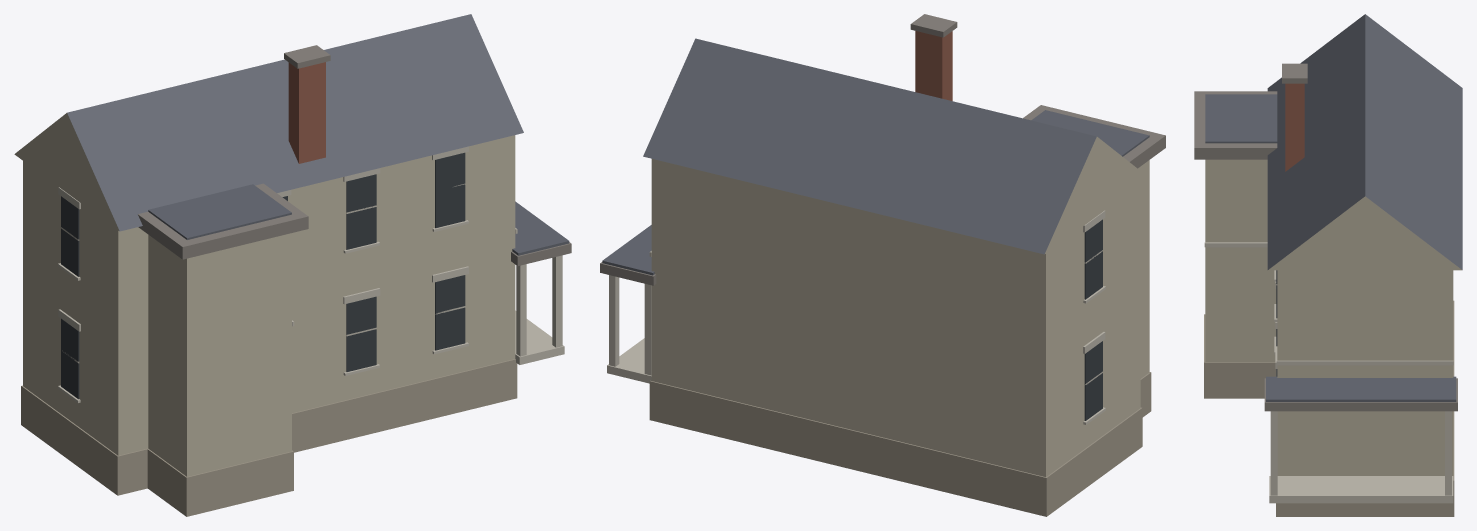
File: house_1630_prairie__draft_1904.glb
3 views of the same model, side by side, from view 1: azimuth 30°, elevation 25°; view 2: azimuth 150°, elevation 25°; view 3: azimuth 270°, elevation 25° (orthographic). The views are drawn at different scales.
Visible parts, largest first — view 1: house_1630_prairie__draft_1904; view 2: house_1630_prairie__draft_1904; view 3: house_1630_prairie__draft_1904.
Part boxes in pixels (left/top/right/bottom): house_1630_prairie__draft_1904: left=14, top=14, right=571, bottom=516; house_1630_prairie__draft_1904: left=600, top=14, right=1165, bottom=516; house_1630_prairie__draft_1904: left=1194, top=14, right=1462, bottom=516.
Bounding box in the file's own units: 15.02 × 12.29 × 8.4.
